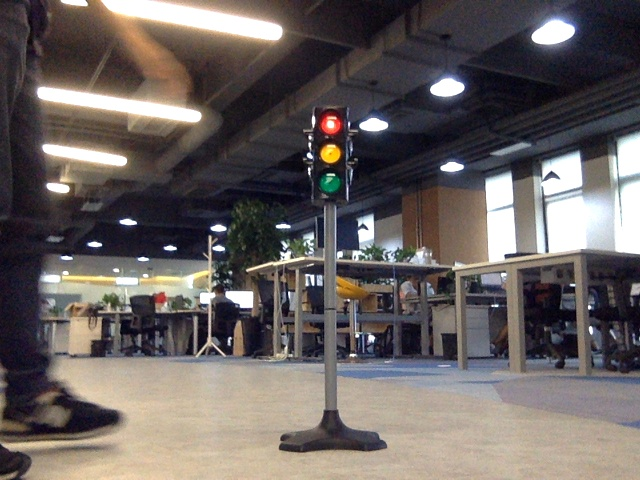red: (310, 113, 347, 196)
